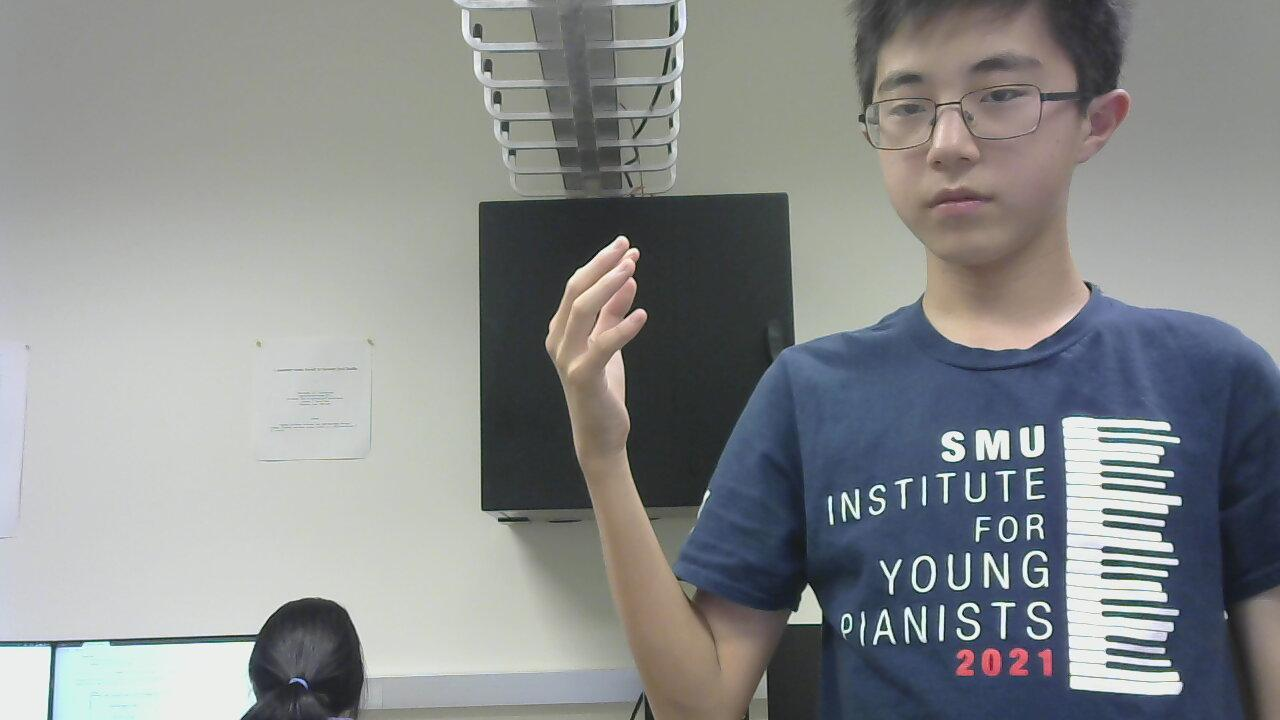hands: (516, 222, 667, 473)
